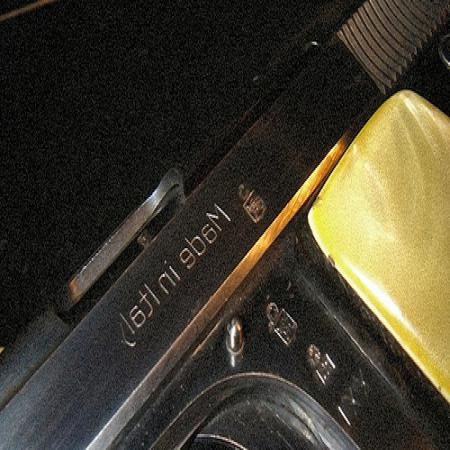Pistol: (4, 1, 442, 438)
